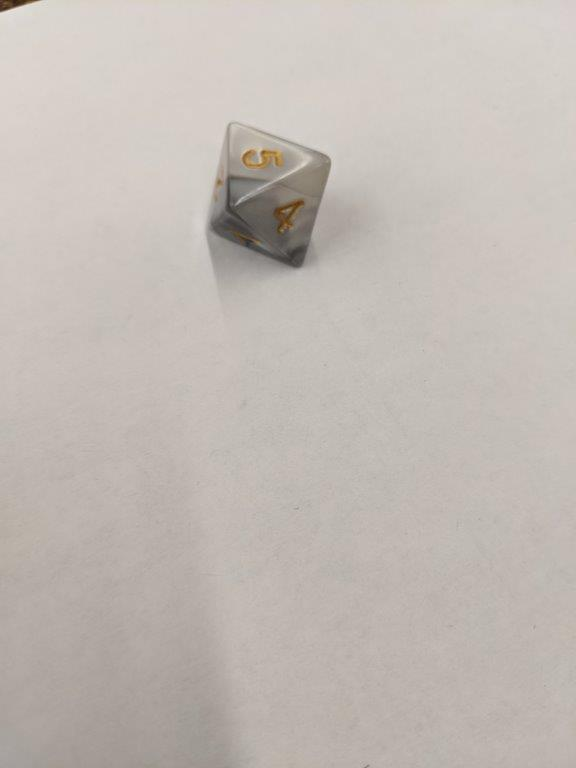d8-5: (203, 118, 337, 273)
